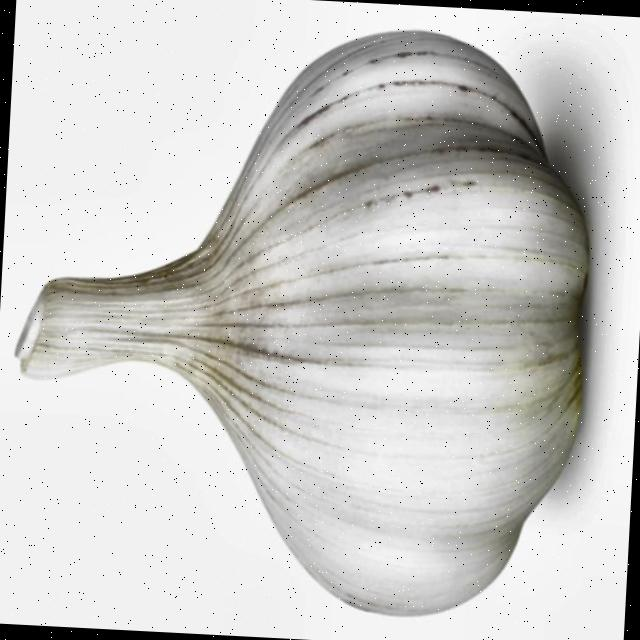garlic: (17, 30, 587, 614)
